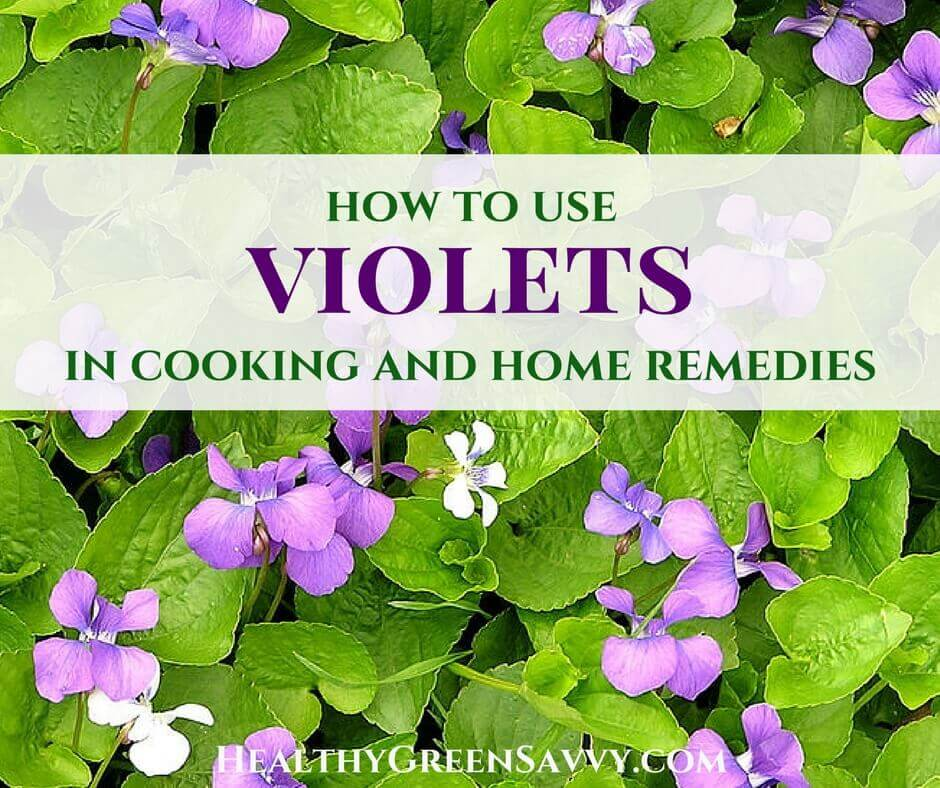violet: (169, 446, 334, 570), (642, 489, 797, 617), (26, 574, 164, 717), (580, 582, 725, 703), (656, 697, 814, 788), (577, 447, 679, 580), (113, 12, 307, 79), (548, 3, 665, 86), (788, 6, 896, 84), (874, 19, 940, 144), (206, 724, 324, 788)
